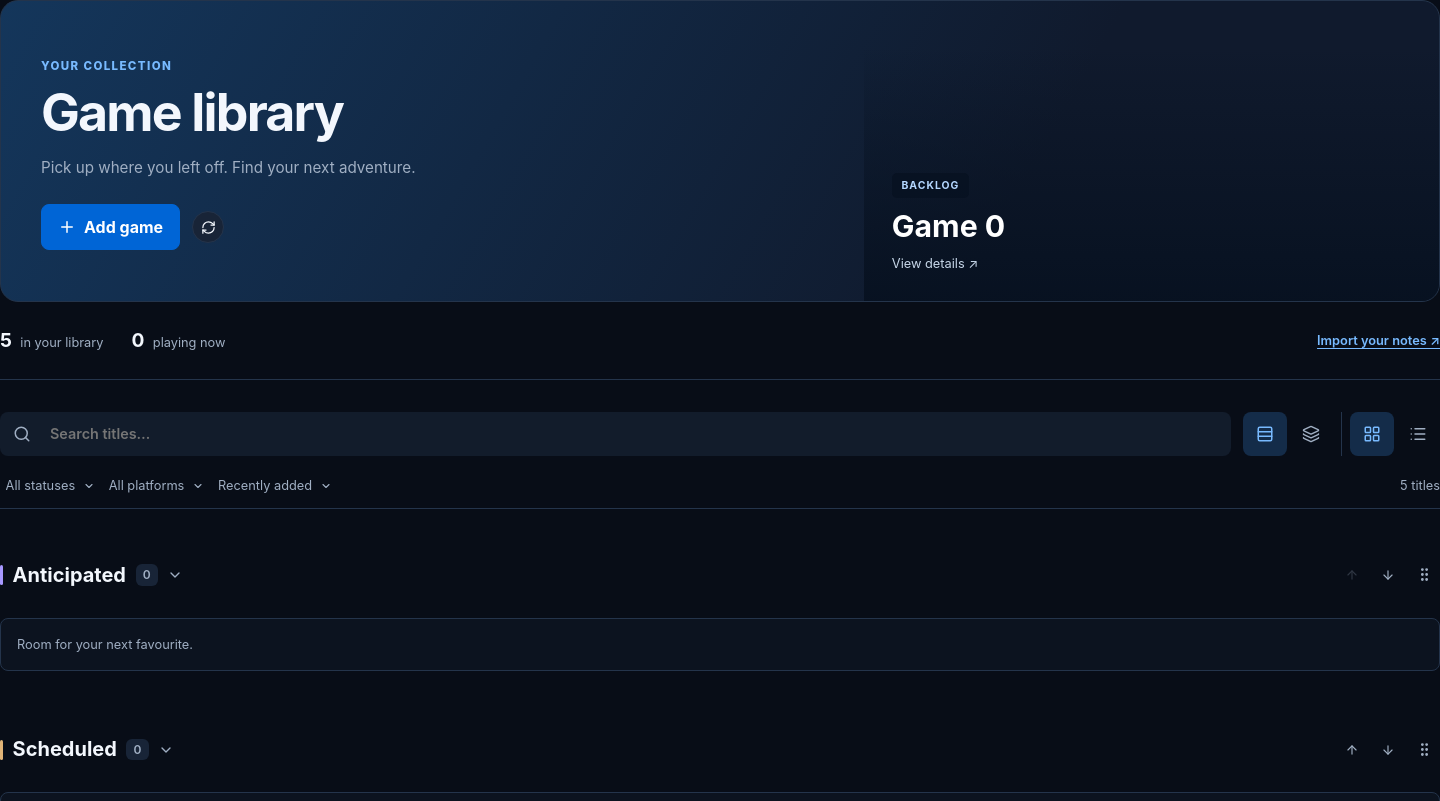
Test: batches game syncs and retries only failed titles while keeping the library available
Click the button named "Sync all games": click(208, 227) [192, 211, 224, 243]
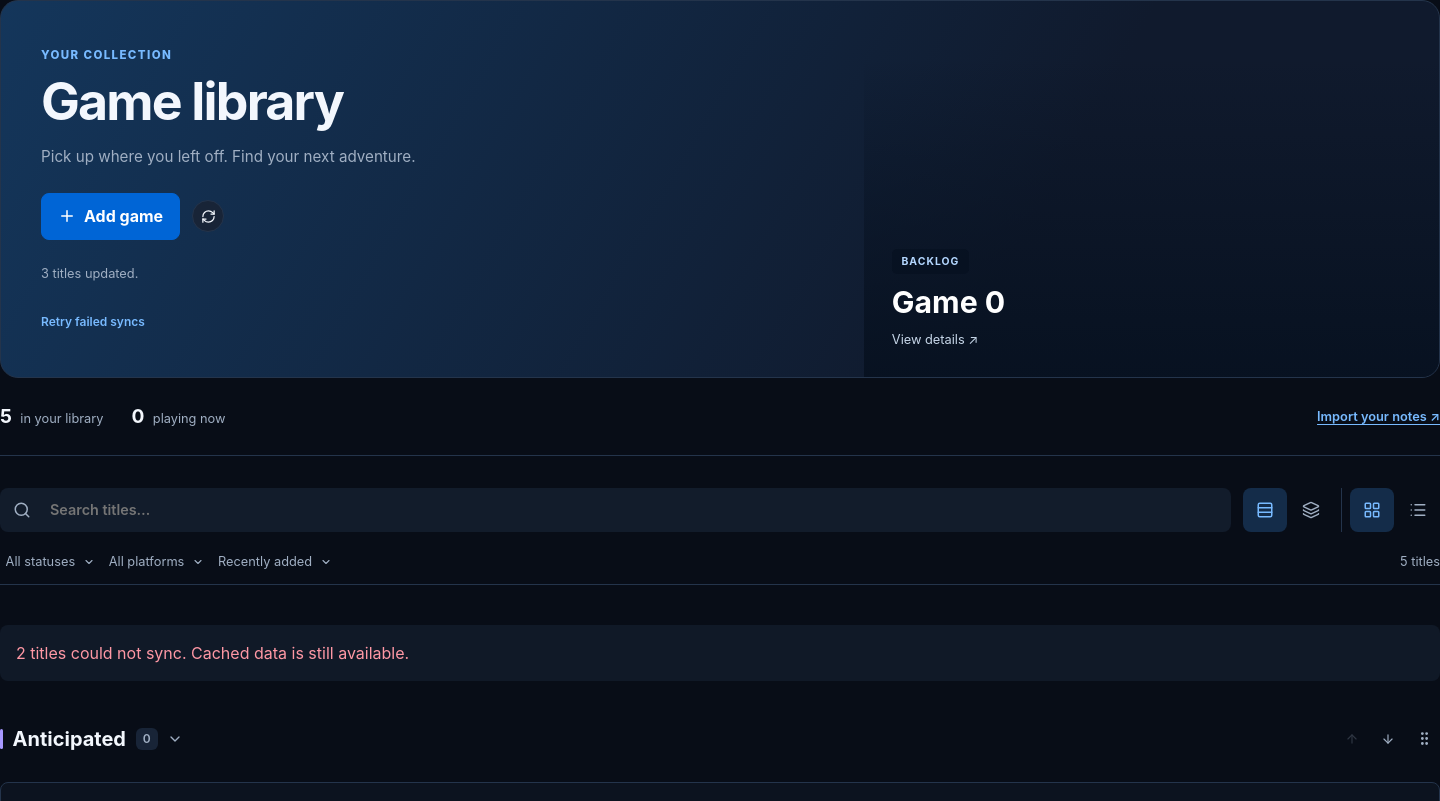
Result: the button "Retry failed syncs" is enabled
Result: the message "2 titles could not sync. Cached data is still available." is shown at [0, 625, 1439, 681]
Click the button "Retry failed syncs": click(93, 322) [41, 307, 145, 337]
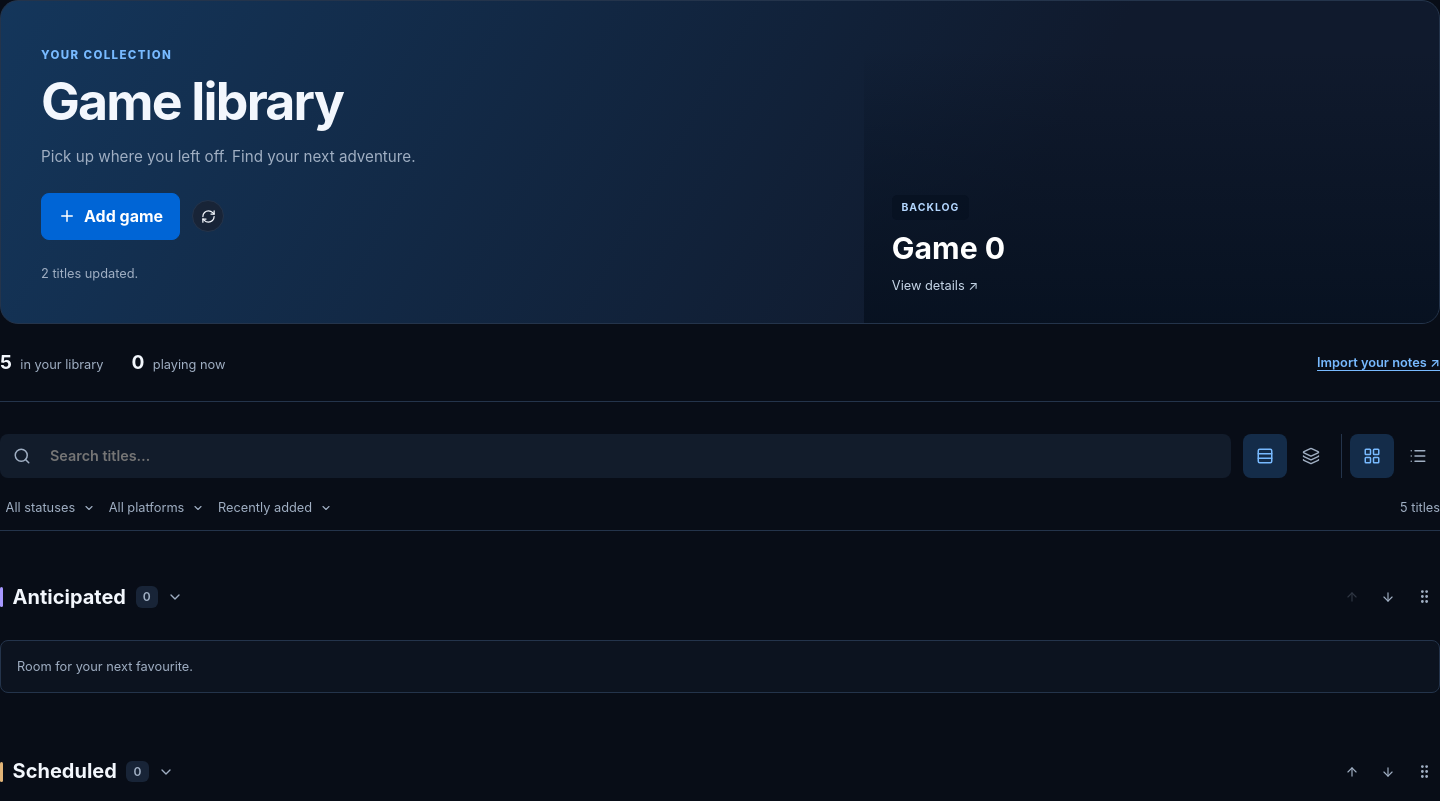
Result: the button "Retry failed syncs" is gone
Result: the message "2 titles could not sync. Cached data is still available." is gone
